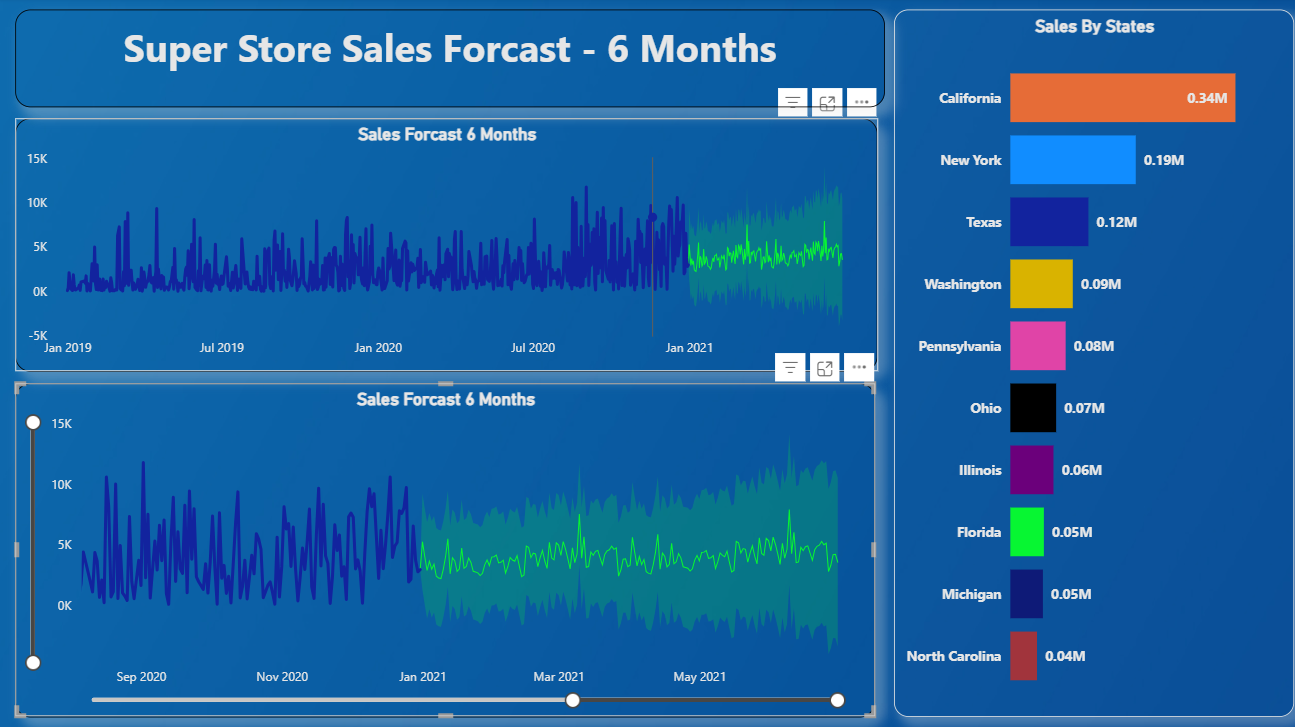

The page's visual inventory and layout, read from the dashboard file:
{"tool":"powerbi","page":{"name":"Page 2","canvas":[1280,720],"ordinal":1},"visuals":[{"type":"lineChart","title":"Sales Forcast 15 Days","fields":{"Y":["Sum(SuperStore_Sales_Dataset.Sales)"],"Category":["SuperStore_Sales_Dataset.Order Date"]},"box":[16,119,846.6,249.1],"z":0},{"type":"lineChart","title":"Sales Forcast 15 Days","fields":{"Y":["Sum(SuperStore_Sales_Dataset.Sales)"],"Category":["SuperStore_Sales_Dataset.Order Date"]},"box":[16,379.1,844.2,327.6],"z":1000},{"type":"clusteredBarChart","title":"Sales By States","fields":{"Category":["SuperStore_Sales_Dataset.State"],"Y":["Sum(SuperStore_Sales_Dataset.Sales)"]},"box":[878.5,12.3,392.6,694.5],"z":2000},{"type":"textbox","box":[16,12.3,854,95.7],"z":3000}]}

Visuals, with their boxes in screenshot pixels (x1, y1, x2, y2), scaled from the page's 1280x720 canvas onto the 1295x727 screenshot:
"Sales Forcast 15 Days" lineChart: (16,120,873,372)
"Sales Forcast 15 Days" lineChart: (16,383,870,714)
"Sales By States" clusteredBarChart: (889,12,1286,714)
textbox: (16,12,880,109)
